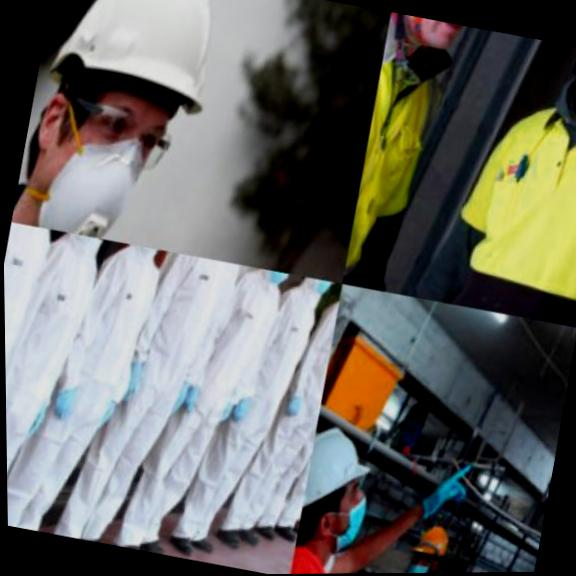safety_vest: (48, 238, 261, 556), (3, 225, 188, 549), (122, 254, 298, 552), (176, 270, 336, 545), (3, 220, 123, 536), (229, 281, 344, 533), (3, 220, 76, 527), (281, 308, 340, 506), (359, 564, 448, 573)
